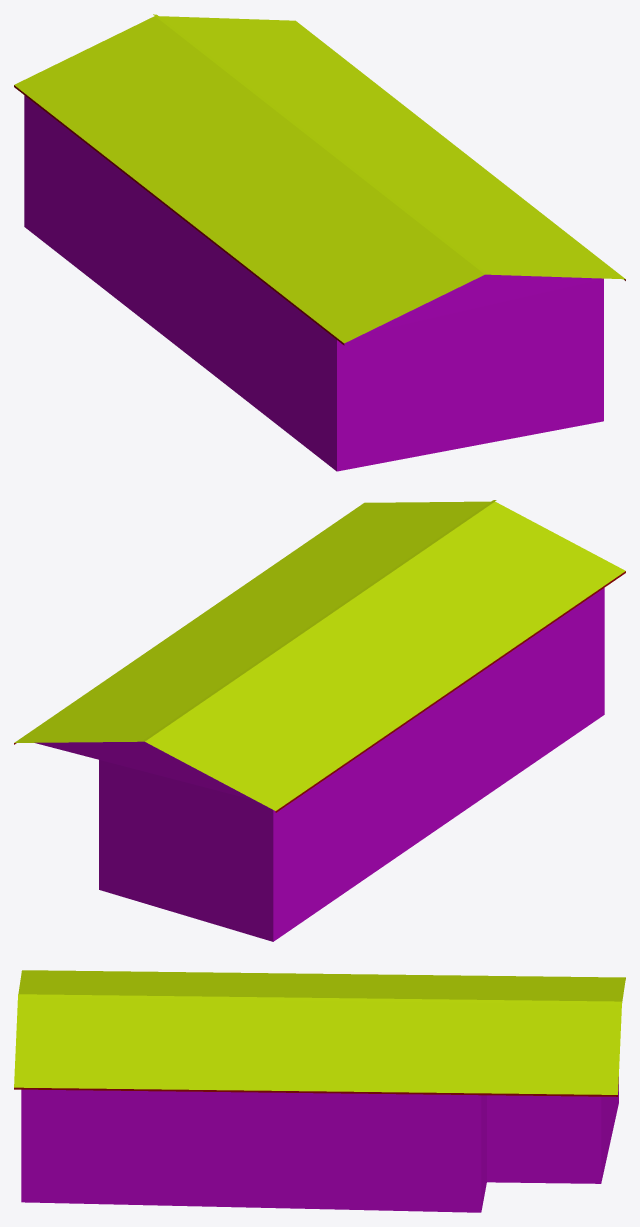
Rendered from scl_114.glb.
3 views of the same model, one above another, from view 1: azimuth 30°, elevation 25°; view 2: azimuth 150°, elevation 25°; view 3: azimuth 270°, elevation 25° (orthographic). The views are drawn at different scales.
Parts seen in each view (by area): view 1: scl_114; view 2: scl_114; view 3: scl_114.
Part boxes in pixels (x1,y1,x2,y2): scl_114: (14, 14, 625, 471); scl_114: (14, 500, 625, 941); scl_114: (14, 970, 625, 1212).
Size of the model in its own units: 17.59 by 10.25 by 36.43.
